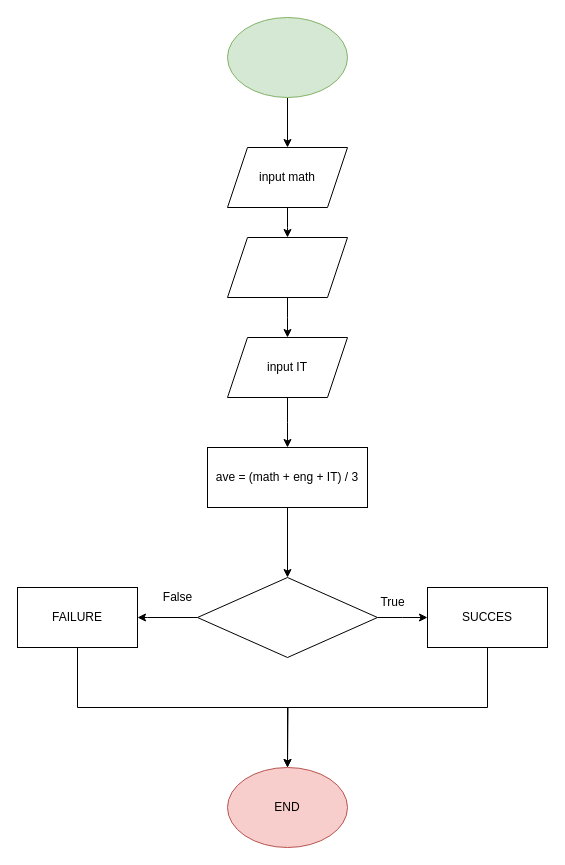
This 565x865 diagram has some shape labels left out. The shapes that lost their labels are listed below. From the top down, each one's box as (x1, y1, x2, y2) in pixels, then its label:
(226, 16, 348, 98): START
(226, 236, 348, 298): input eng
(196, 576, 378, 658): if sum / 3 >= 60
